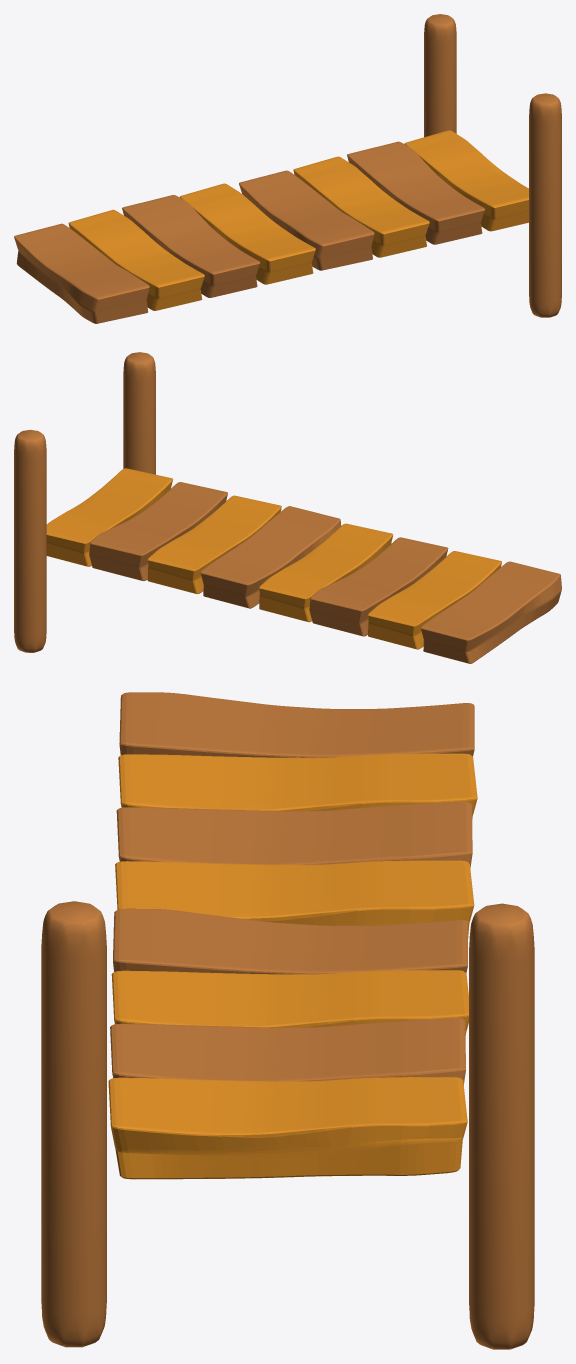
File: Pontile.fbx
The picture shows the model from 3 angles, top to bottom: view 1: azimuth 30°, elevation 25°; view 2: azimuth 150°, elevation 25°; view 3: azimuth 270°, elevation 25°; orthographic projection. The views are drawn at different scales.
Visible parts, largest first — view 1: Pontile; view 2: Pontile; view 3: Pontile.
Part boxes in pixels (x1=…): Pontile: x1=14, y1=14, x2=561, y2=323; Pontile: x1=14, y1=352, x2=561, y2=663; Pontile: x1=41, y1=692, x2=534, y2=1349.
Bounding box in the file's own units: 938 × 420 × 440.
